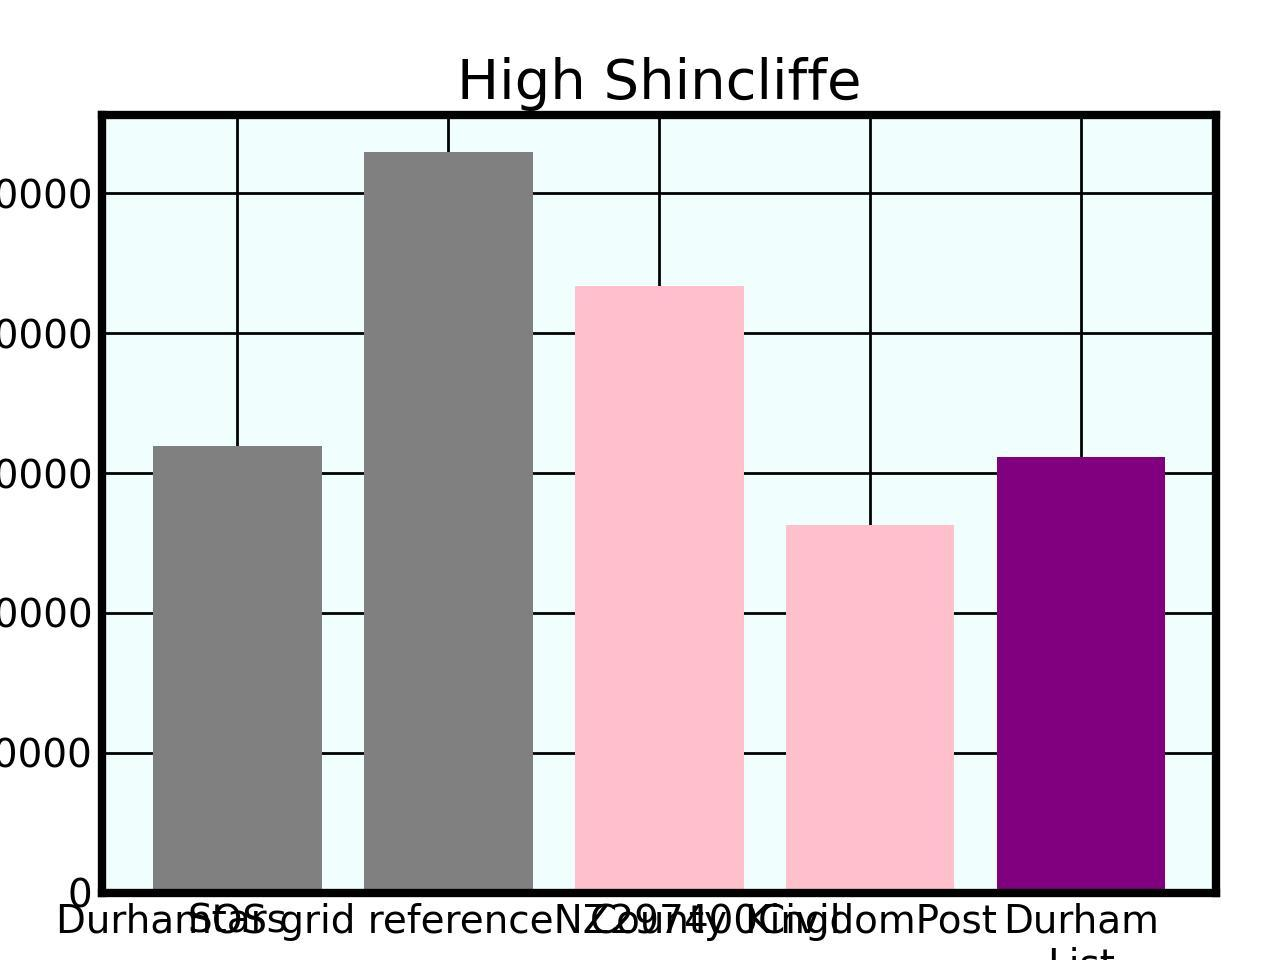rectangle: (364, 152, 533, 893), (574, 286, 744, 893), (153, 446, 322, 893), (997, 457, 1165, 893), (785, 525, 954, 893)
